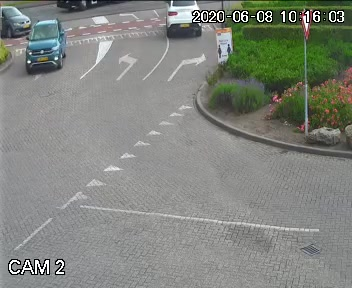car: (25, 19, 75, 69), (157, 0, 204, 41), (0, 2, 38, 40)
